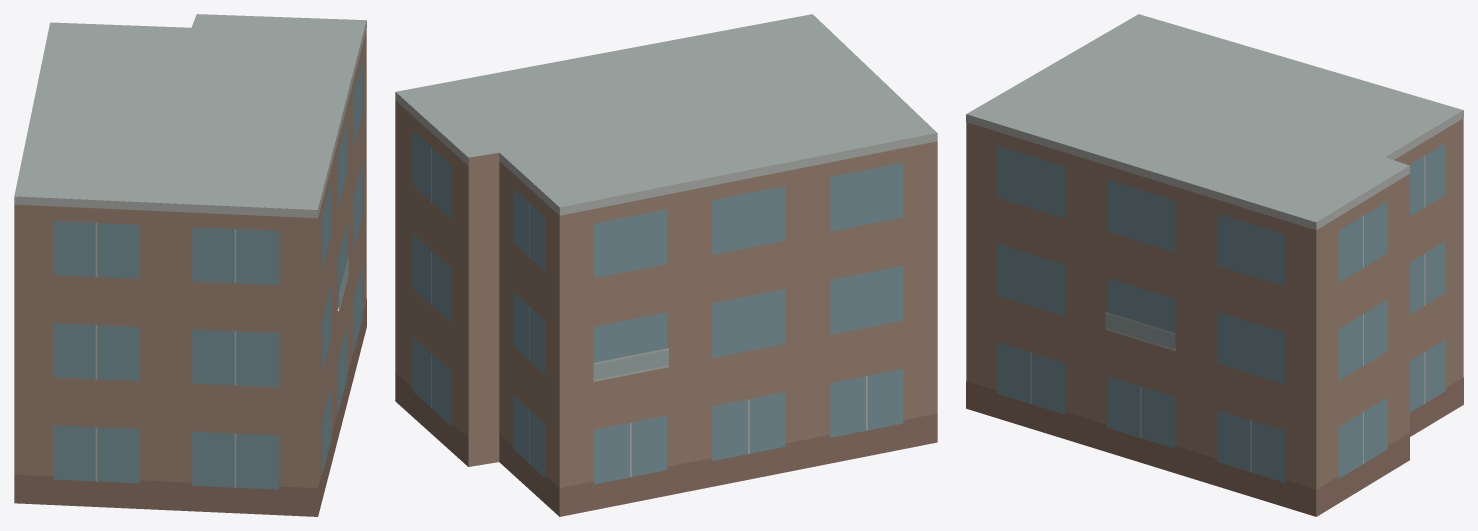
File: survey-upis-32550839.glb
3 views of the same model, side by side, from view 1: azimuth 30°, elevation 25°; view 2: azimuth 150°, elevation 25°; view 3: azimuth 270°, elevation 25° (orthographic). The views are drawn at different scales.
Parts seen in each view (by area): view 1: survey-upis-32550839.tmp; view 2: survey-upis-32550839.tmp; view 3: survey-upis-32550839.tmp.
Part boxes in pixels (x1=…): survey-upis-32550839.tmp: x1=14, y1=14, x2=366, y2=516; survey-upis-32550839.tmp: x1=395, y1=14, x2=937, y2=516; survey-upis-32550839.tmp: x1=966, y1=14, x2=1463, y2=516.
Size of the model in its own units: 13.9 by 9.15 by 14.03.
